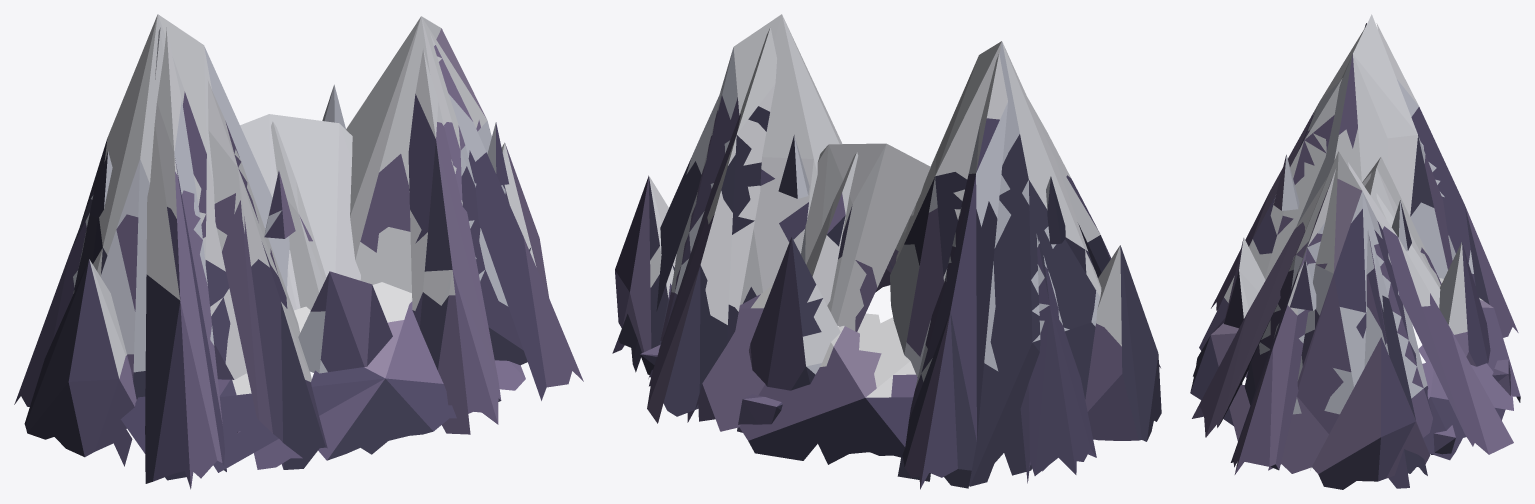
File: mtn_peak_b.glb
3 renders of one model, left to right at view 1: azimuth 30°, elevation 25°; view 2: azimuth 150°, elevation 25°; view 3: azimuth 270°, elevation 25°, orthographic. The views are drawn at different scales.
Parts seen in each view (by area): view 1: mtn_peak_b; view 2: mtn_peak_b; view 3: mtn_peak_b.
Boxes of the visible parts, x1,y1,x2,y2 form: mtn_peak_b: (14,14,583,489); mtn_peak_b: (612,14,1161,489); mtn_peak_b: (1190,14,1520,489).
Bounding box in the file's own units: 106 × 76.83 × 69.68.
